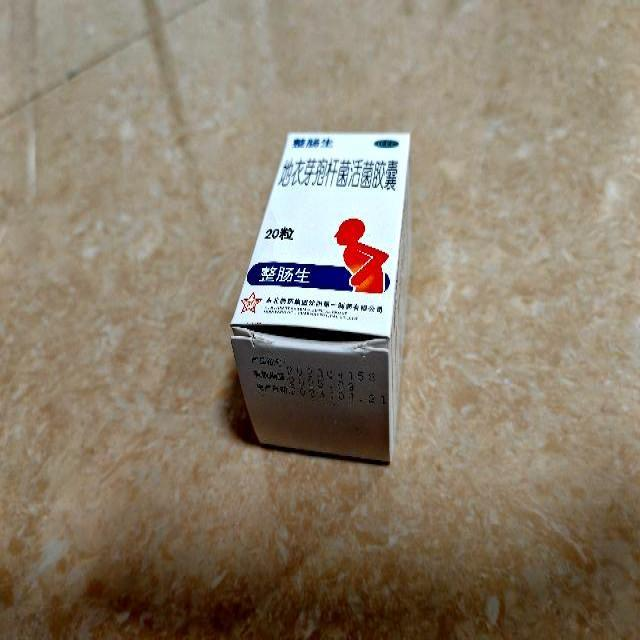box: (230, 130, 412, 462)
